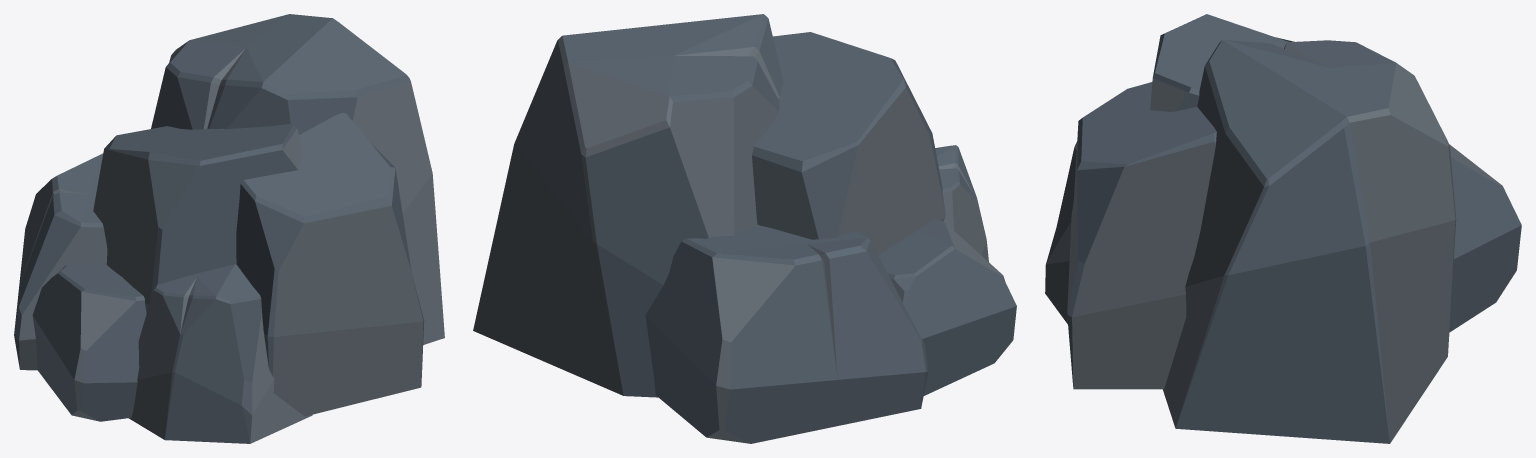
The model's file is rock.fbx.
The picture shows the model from 3 angles, left to right: view 1: azimuth 30°, elevation 25°; view 2: azimuth 150°, elevation 25°; view 3: azimuth 270°, elevation 25°; orthographic projection. The views are drawn at different scales.
Parts seen in each view (by area): view 1: Cube.007, Cylinder.026, Cube.008, Cylinder.027, Cube.010, Cube.006; view 2: Cylinder.026, Cube.006, Cube.008, Cube.010, Cylinder.027; view 3: Cylinder.026, Cube.007, Cube.006, Cube.008, Cylinder.027.
Part boxes in pixels (left/top/right/bottom): Cube.007: left=222, top=113, right=424, bottom=416; Cylinder.026: left=151, top=14, right=444, bottom=344; Cube.008: left=93, top=124, right=302, bottom=312; Cylinder.027: left=129, top=264, right=312, bottom=443; Cube.010: left=32, top=263, right=146, bottom=421; Cube.006: left=14, top=153, right=107, bottom=370; Cylinder.026: left=473, top=14, right=782, bottom=397; Cube.006: left=645, top=225, right=928, bottom=443; Cube.008: left=752, top=32, right=945, bottom=255; Cube.010: left=878, top=219, right=1016, bottom=395; Cylinder.027: left=935, top=145, right=988, bottom=261; Cylinder.026: left=1163, top=39, right=1456, bottom=443; Cube.007: left=1067, top=82, right=1216, bottom=389; Cube.006: left=1449, top=144, right=1521, bottom=332; Cube.008: left=1150, top=14, right=1294, bottom=111; Cylinder.027: left=1045, top=141, right=1077, bottom=324.
Bounding box in the file's own units: 4.01 × 2.68 × 3.82.
